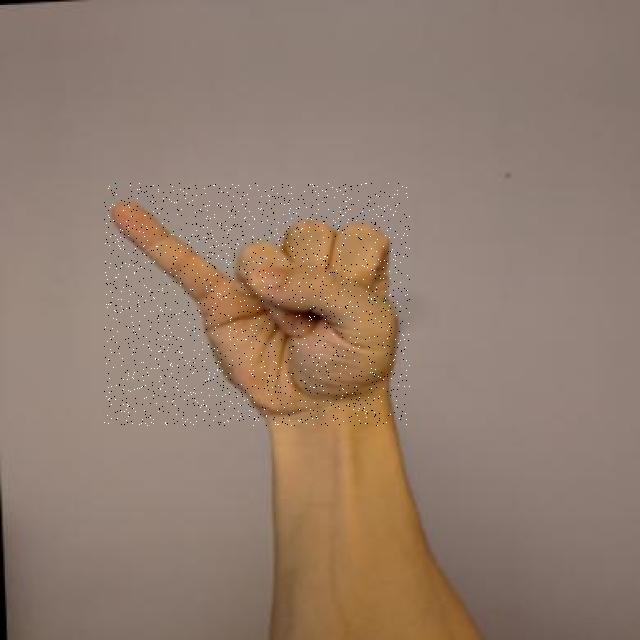I: (104, 183, 410, 426)
